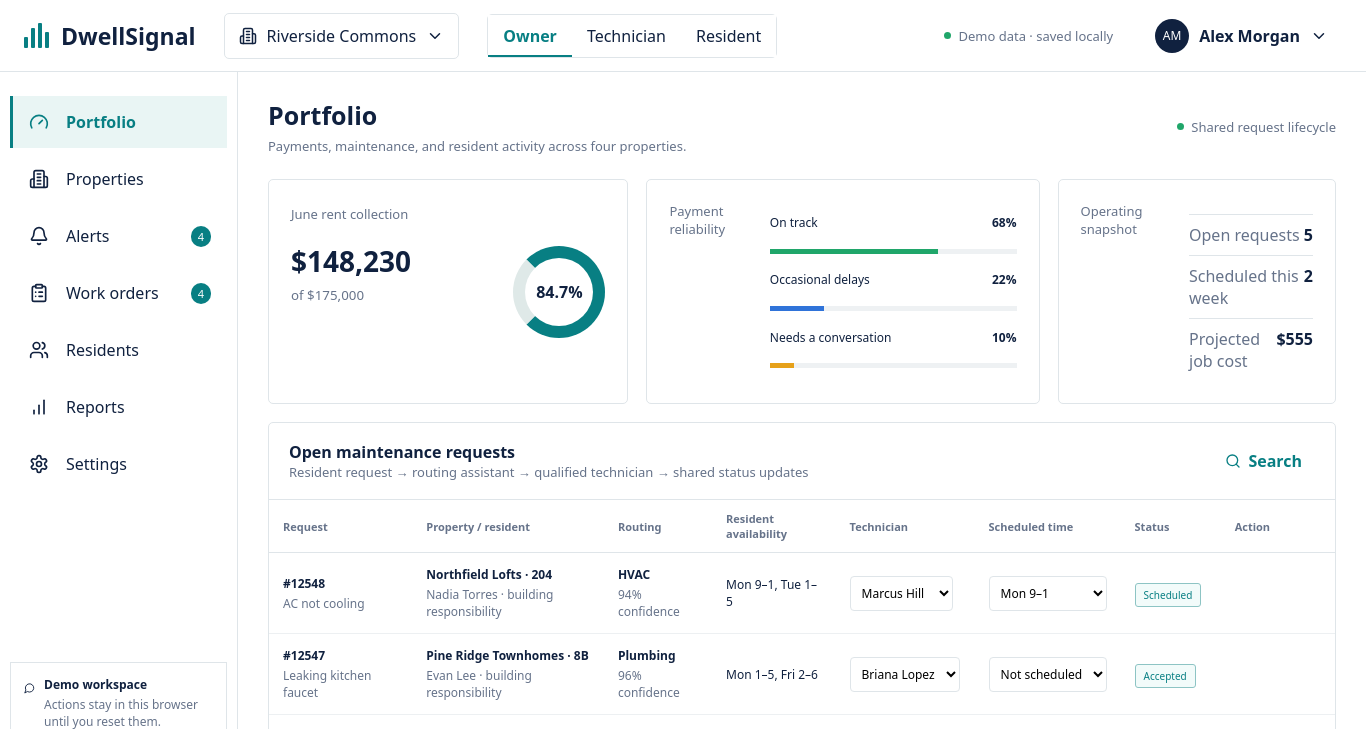
Test case: DwellSignal › opens the supporting owner screens and alert dialog
Click the button "Alerts 4" at (118, 236), box top-left (10, 210), bottom-right (227, 262)
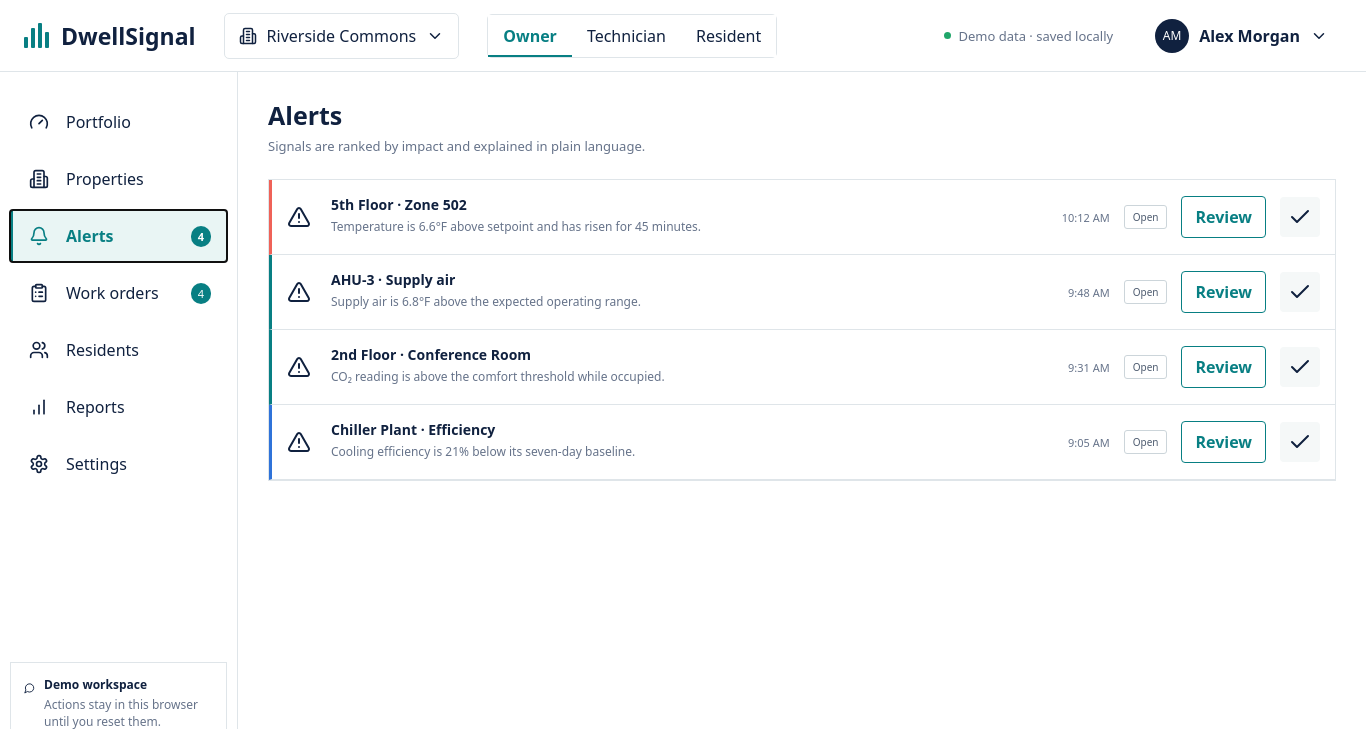
Check: the heading "Alerts" is shown, box top-left (268, 98), bottom-right (342, 132)
Click the button "Review" in the row of "10:12 AM" at (1224, 217), box top-left (1182, 196), bottom-right (1266, 238)
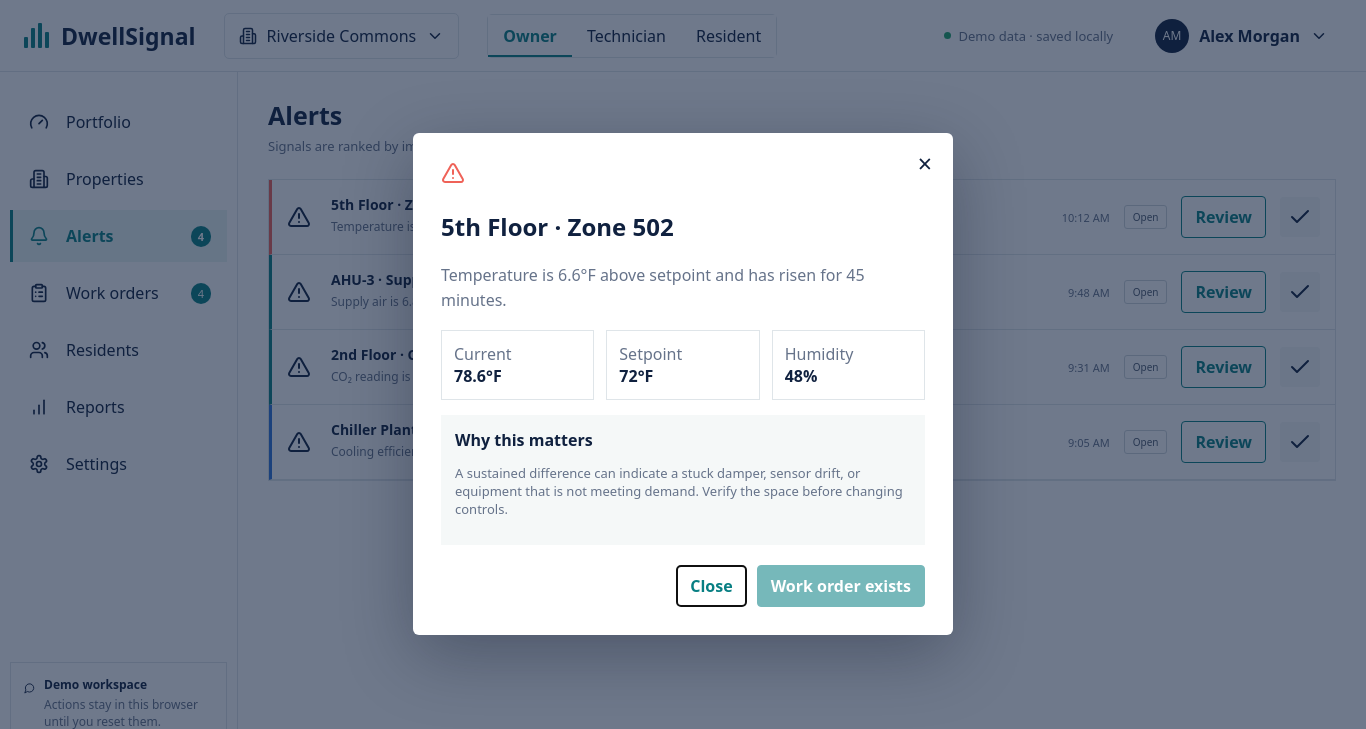
Check: the dialog "5th Floor" is shown, box top-left (413, 133), bottom-right (953, 635)
Click the button "Close" at (711, 586), box top-left (676, 565), bottom-right (747, 607)
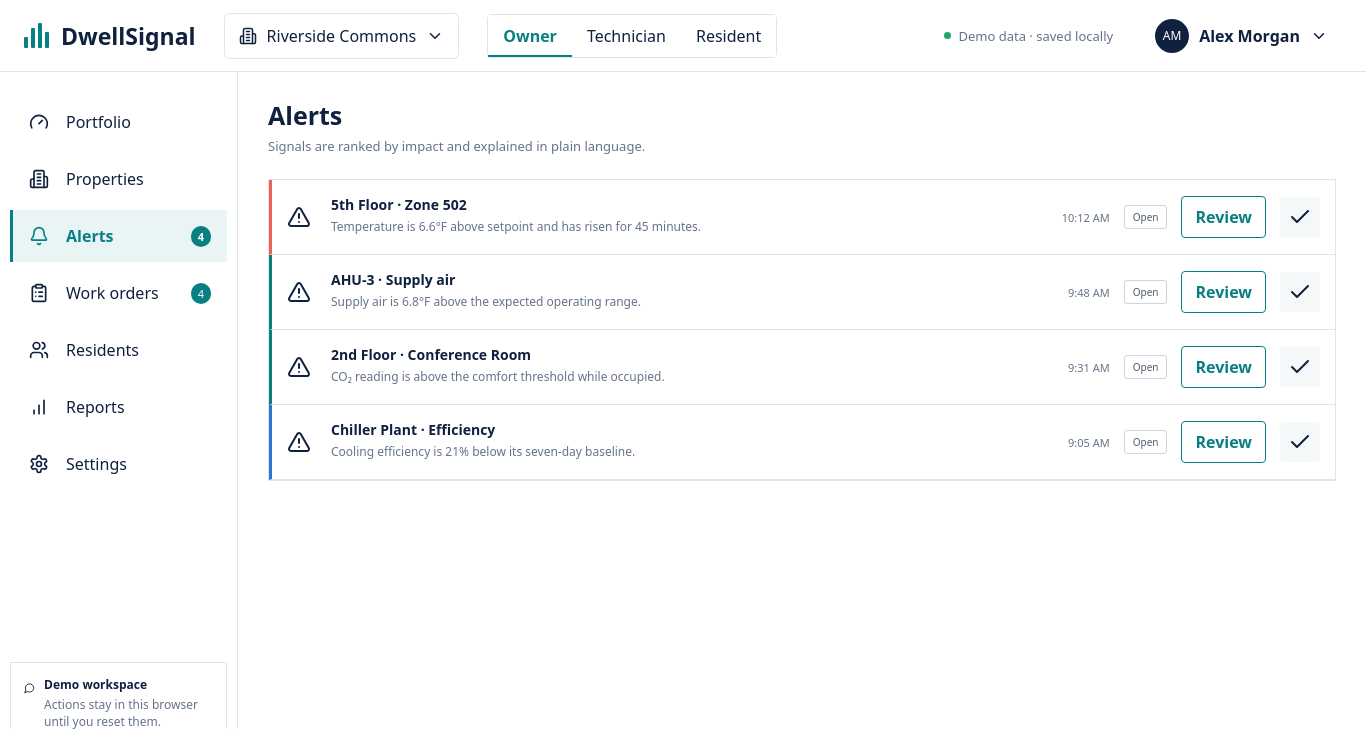
Click the button "Reports" at (118, 407), box top-left (10, 381), bottom-right (227, 433)
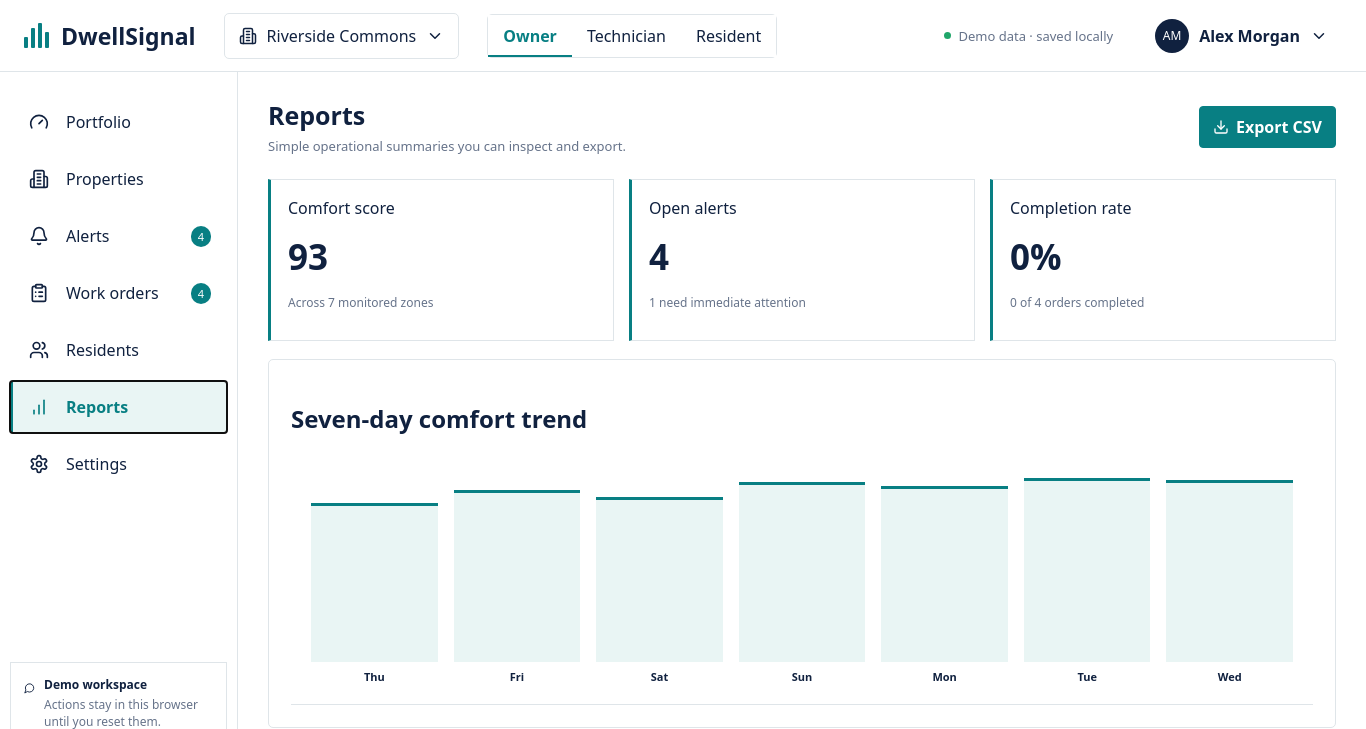
Check: the button "Export CSV" is shown, box top-left (1199, 106), bottom-right (1336, 148)
Click the button "Settings" at (118, 464), box top-left (10, 438), bottom-right (227, 490)
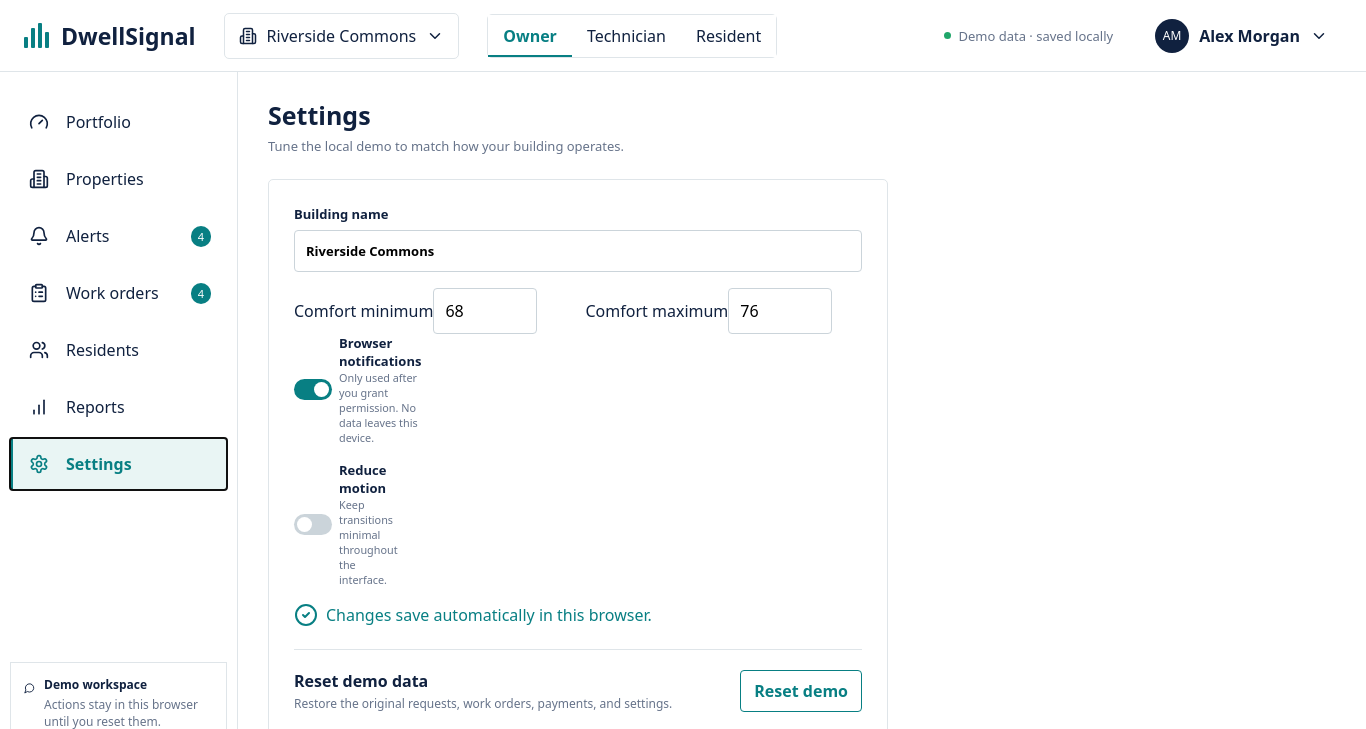
Check: the button "Reset demo" is shown, box top-left (740, 670), bottom-right (862, 712)
